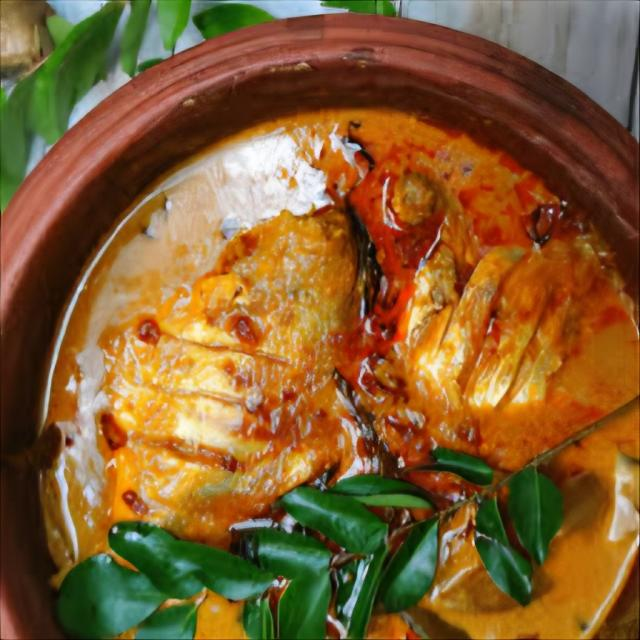FISH CURRY: (46, 111, 639, 637)
